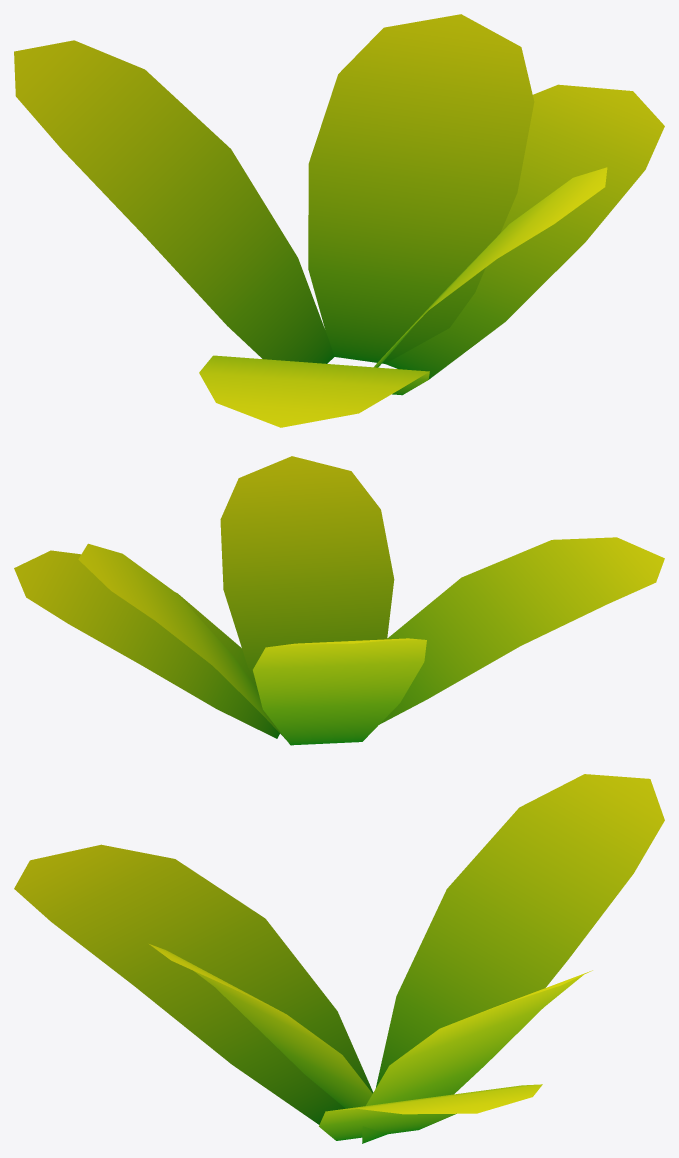
The model's file is grass_leaf_medium.glb.
3 views of the same model, one above another, from view 1: azimuth 30°, elevation 25°; view 2: azimuth 150°, elevation 25°; view 3: azimuth 270°, elevation 25° (orthographic). The views are drawn at different scales.
Parts seen in each view (by area): view 1: grass_leaf_medium; view 2: grass_leaf_medium; view 3: grass_leaf_medium.
Part boxes in pixels (x1,y1,x2,y2): grass_leaf_medium: (14,14,664,427); grass_leaf_medium: (14,456,664,745); grass_leaf_medium: (14,774,664,1143).
Bounding box in the file's own units: 0.1426 × 0.0588 × 0.139.
